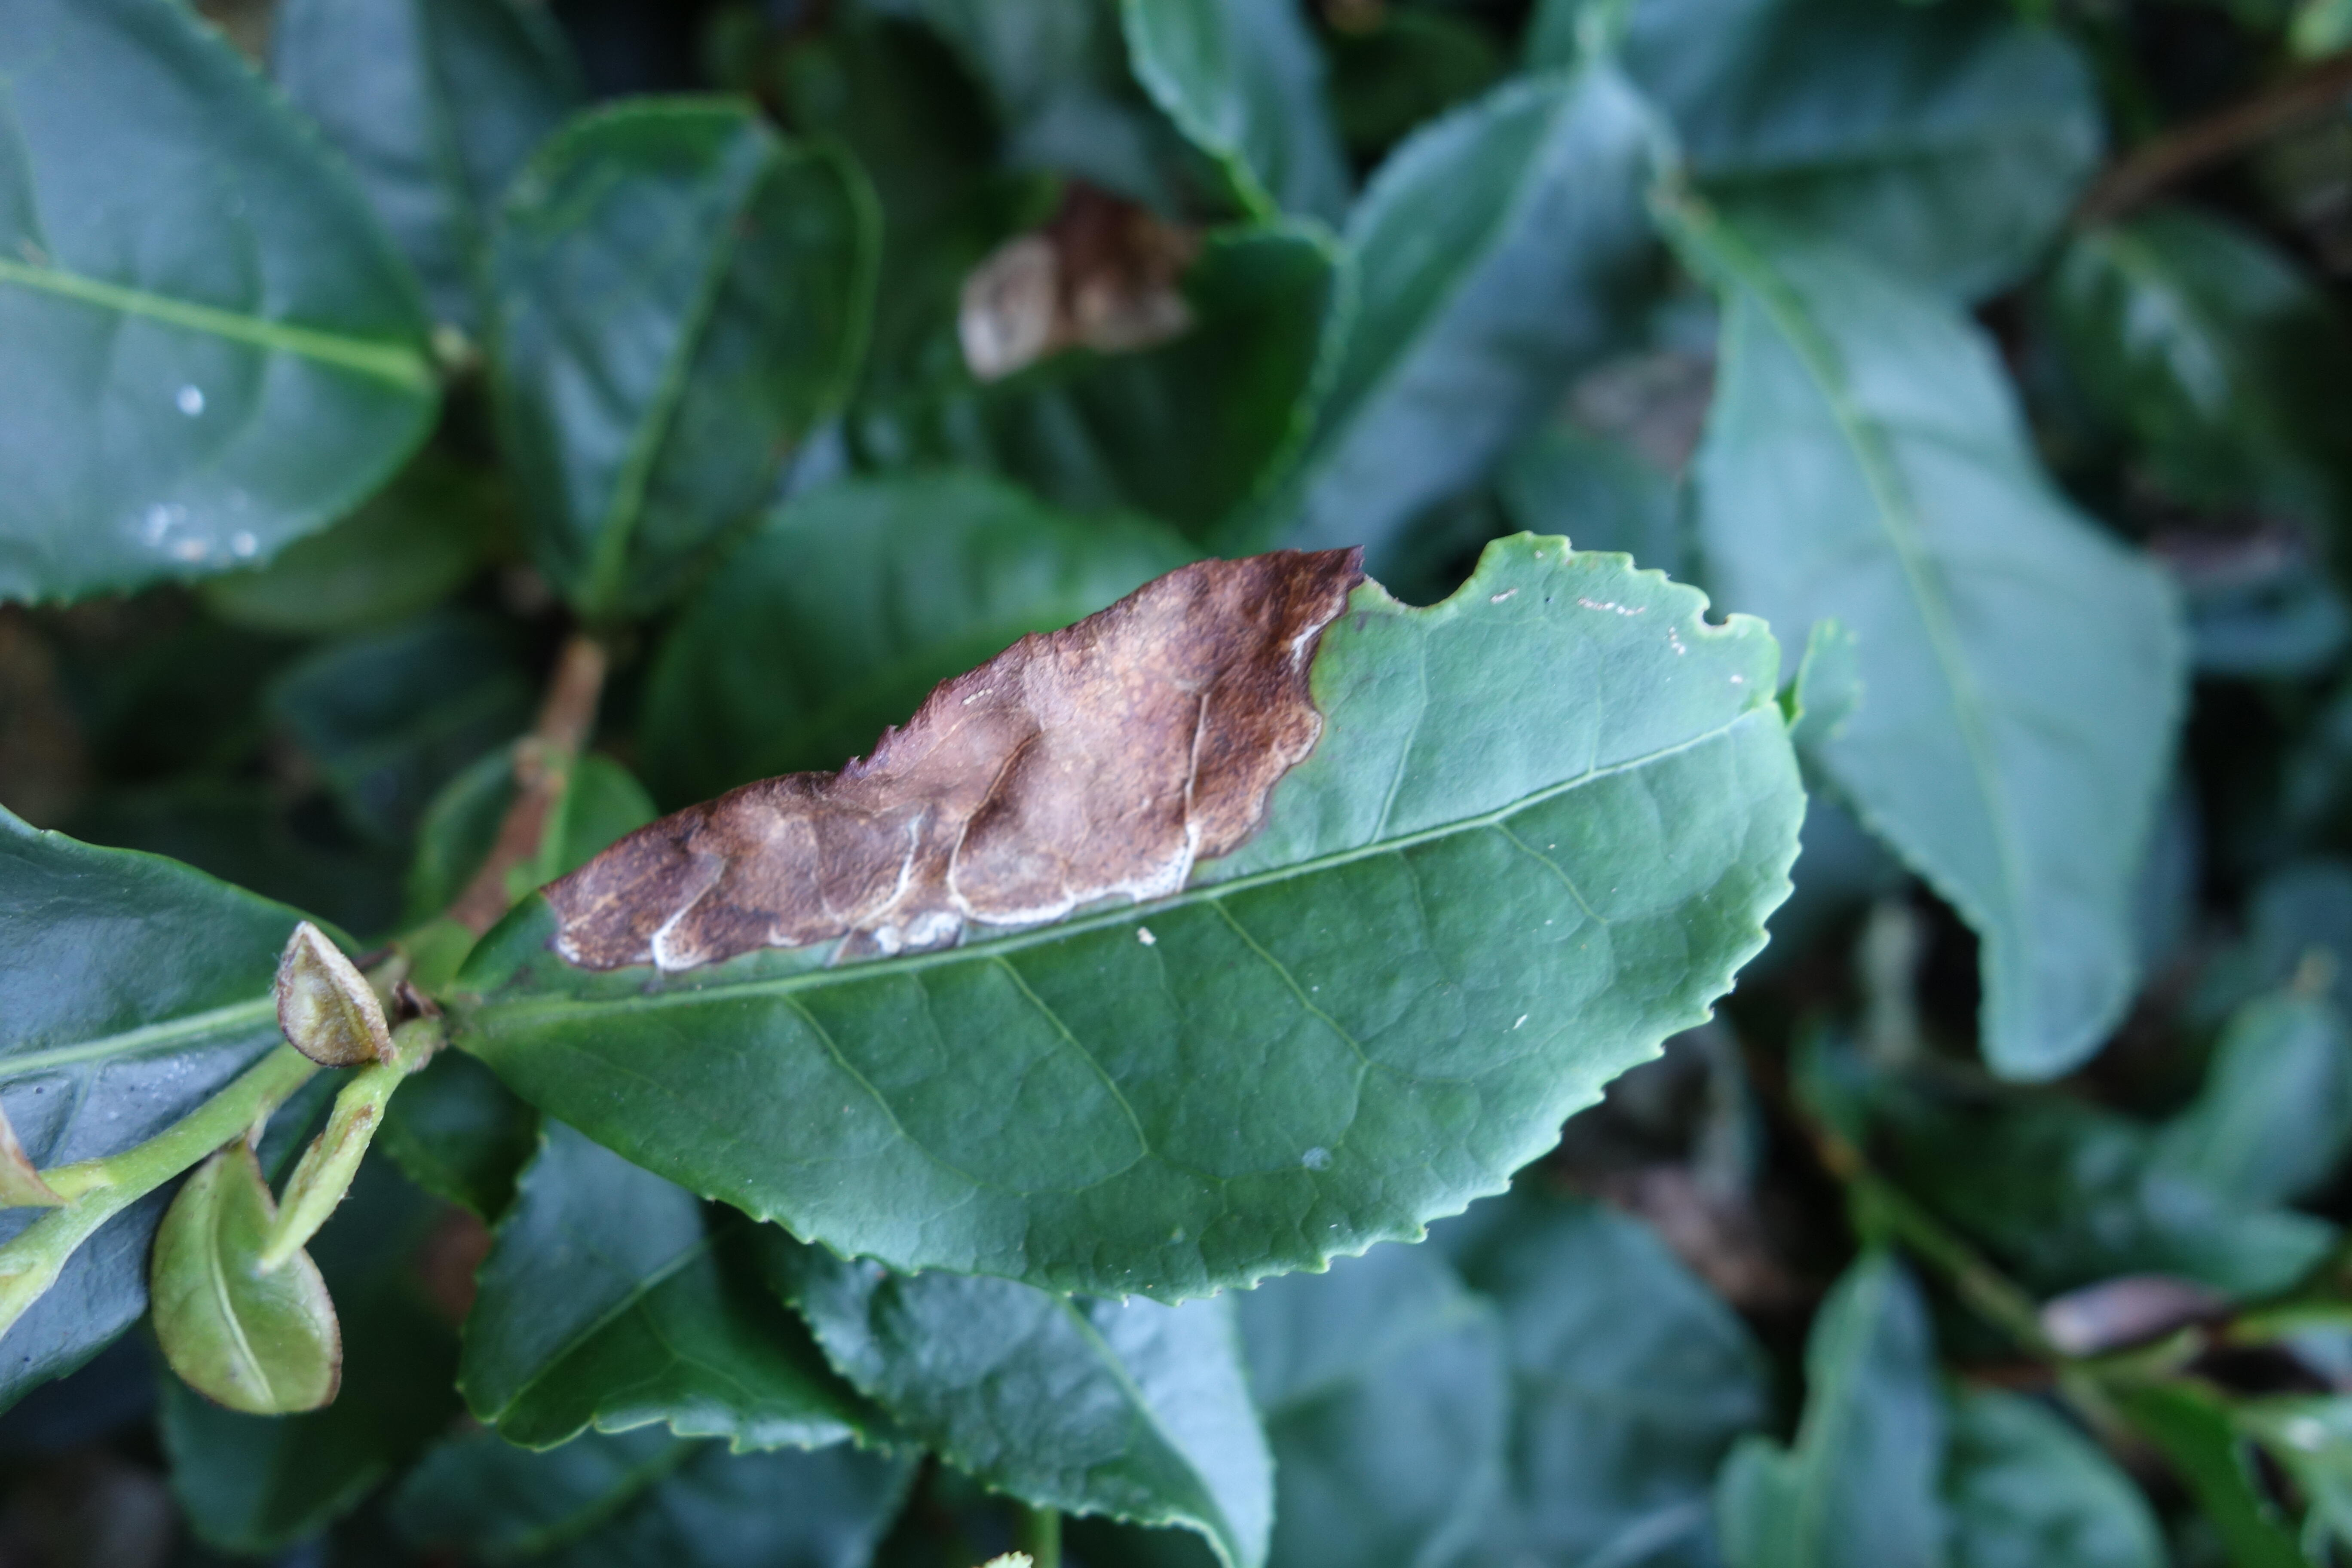tanju_high: (430, 528, 1813, 1305)
tanju_low: (150, 1143, 348, 1417)
